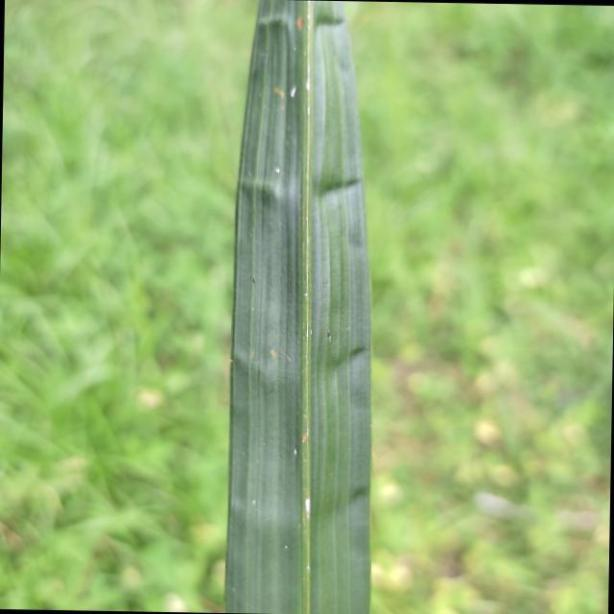Boron: (227, 5, 368, 614)
